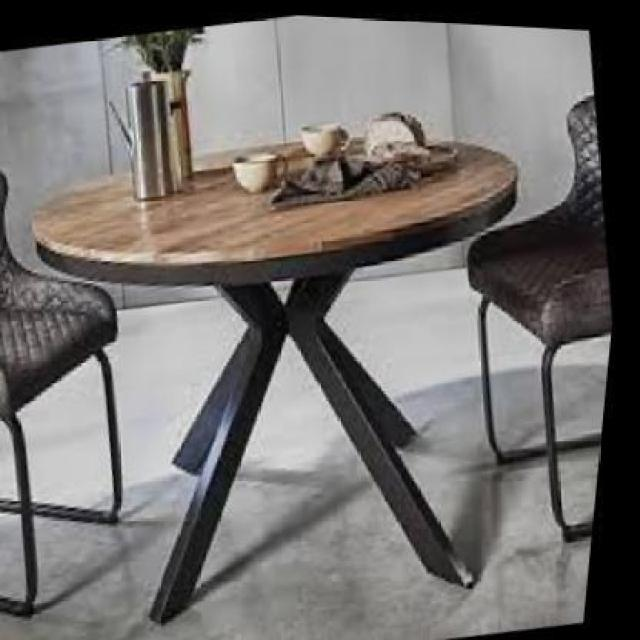tables: (29, 133, 518, 624)
